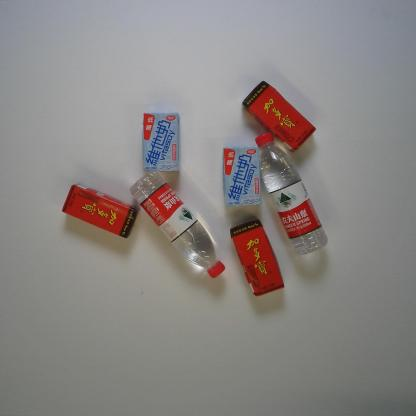Drink: (129, 171, 226, 279), (254, 132, 328, 256), (242, 80, 316, 153), (230, 218, 286, 296), (62, 183, 140, 239)
Milk: (222, 144, 262, 206), (142, 112, 180, 172)
